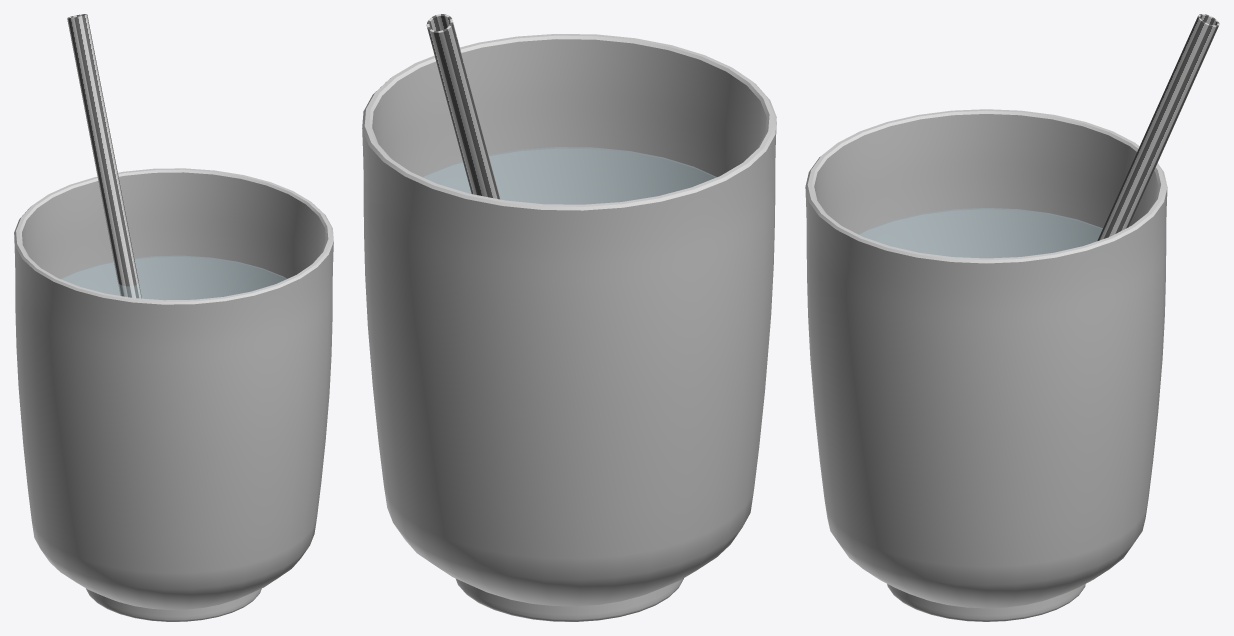
File: CupAndWater.glb
The picture shows the model from 3 angles, left to right: view 1: azimuth 30°, elevation 25°; view 2: azimuth 150°, elevation 25°; view 3: azimuth 270°, elevation 25°; orthographic projection. The views are drawn at different scales.
Parts seen in each view (by area): view 1: Cup, Water, straw; view 2: Cup, Water, straw; view 3: Cup, Water, straw.
Boxes of the visible parts, bbox=[...] form: Cup: bbox=[14, 168, 333, 621]; Water: bbox=[61, 256, 286, 299]; straw: bbox=[67, 14, 141, 298]; Cup: bbox=[362, 34, 776, 621]; Water: bbox=[423, 147, 716, 204]; straw: bbox=[426, 14, 500, 199]; Cup: bbox=[805, 109, 1167, 621]; Water: bbox=[859, 208, 1102, 257]; straw: bbox=[1097, 14, 1219, 240].
Size of what is drawn, in the model's own units: 0.1243 by 0.2142 by 0.1422.
Materials: 3 (1 with a texture image).
